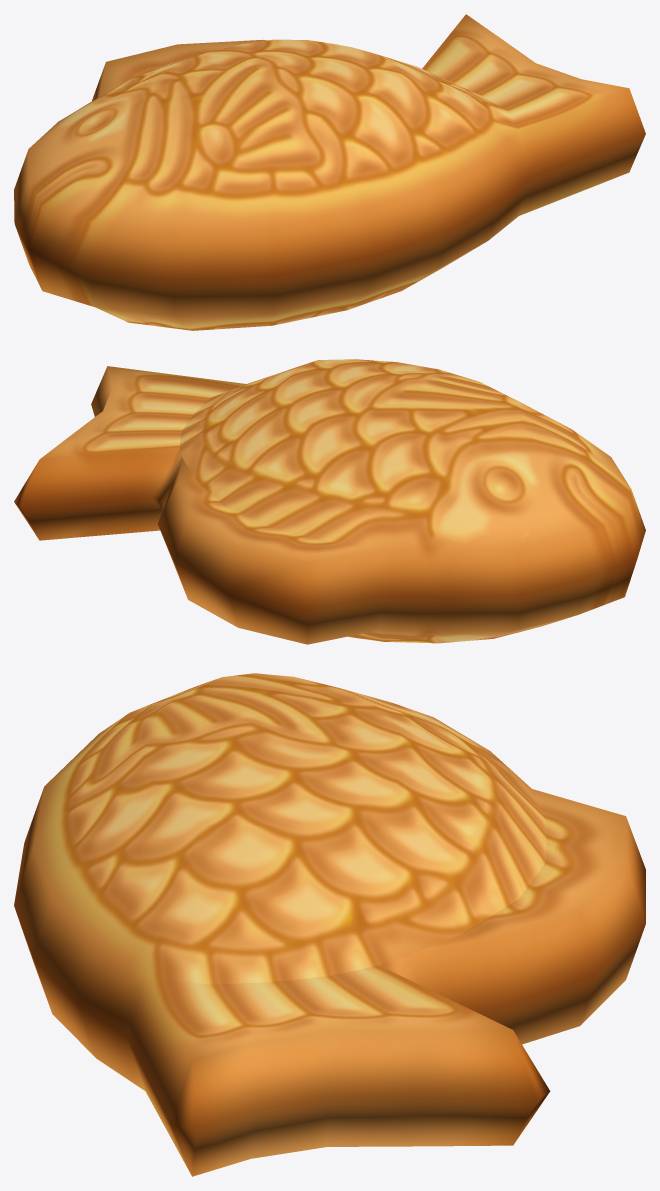
File: 009-Taiyaki2.FBX
3 renders of one model, top to bottom at view 1: azimuth 30°, elevation 25°; view 2: azimuth 150°, elevation 25°; view 3: azimuth 270°, elevation 25°, orthographic. The views are drawn at different scales.
Parts seen in each view (by area): view 1: 009-Taiyaki2; view 2: 009-Taiyaki2; view 3: 009-Taiyaki2.
Boxes of the visible parts, x1,y1,x2,y2 form: 009-Taiyaki2: [14, 14, 645, 330]; 009-Taiyaki2: [14, 359, 645, 644]; 009-Taiyaki2: [14, 673, 645, 1176].
Size of the model in its own units: 23.37 by 8.35 by 15.79.
